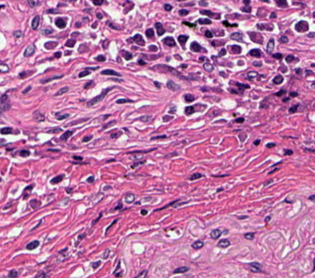nucleus: (87, 86, 113, 105), (151, 65, 186, 79), (127, 34, 144, 45), (200, 10, 220, 19), (66, 118, 88, 126), (248, 31, 262, 43), (41, 75, 62, 83), (295, 21, 308, 32), (101, 69, 120, 76), (166, 80, 179, 90), (234, 82, 248, 91), (33, 110, 44, 121), (106, 219, 117, 230), (60, 130, 72, 140), (92, 212, 102, 224), (155, 22, 164, 35), (55, 86, 68, 95), (50, 174, 63, 183), (31, 15, 39, 29), (257, 23, 273, 30), (163, 37, 175, 46), (120, 50, 132, 59), (26, 240, 38, 249), (102, 120, 115, 128), (55, 18, 65, 28), (178, 35, 188, 45), (203, 61, 213, 71), (210, 229, 221, 238), (76, 233, 85, 244), (266, 39, 273, 53), (55, 112, 69, 119), (230, 32, 242, 40), (248, 49, 260, 57), (217, 239, 229, 247), (191, 240, 203, 248), (44, 41, 57, 48), (285, 55, 298, 62), (190, 42, 200, 51), (273, 75, 283, 84), (30, 199, 40, 208), (197, 18, 211, 24), (222, 20, 236, 26), (107, 21, 119, 28), (132, 160, 144, 167), (125, 193, 134, 202), (65, 39, 75, 47), (230, 45, 240, 53), (184, 94, 194, 102), (116, 98, 132, 103), (182, 21, 195, 27), (189, 173, 202, 179), (78, 70, 89, 77), (247, 71, 258, 78), (46, 127, 61, 132), (145, 28, 153, 37), (279, 35, 288, 43), (289, 104, 298, 112), (185, 106, 194, 114), (275, 89, 285, 96), (111, 131, 121, 138), (244, 232, 254, 239), (276, 0, 287, 6), (27, 1, 40, 6), (84, 81, 93, 88), (178, 9, 188, 15), (272, 53, 282, 59), (82, 135, 92, 141), (151, 135, 166, 139), (72, 155, 82, 161), (205, 30, 212, 38), (218, 48, 225, 56), (114, 202, 122, 209), (241, 6, 250, 12), (163, 115, 172, 121), (268, 168, 277, 174), (54, 51, 61, 58), (153, 81, 160, 88), (149, 45, 157, 51), (96, 55, 104, 61), (264, 179, 272, 185), (43, 29, 52, 34), (92, 0, 103, 4), (230, 89, 241, 93), (164, 4, 171, 10), (239, 133, 245, 140), (199, 1, 207, 6), (253, 61, 261, 66), (235, 117, 243, 122), (284, 149, 292, 154), (46, 9, 58, 12), (212, 41, 221, 45), (280, 66, 286, 72), (266, 143, 275, 147), (87, 176, 93, 182), (174, 54, 181, 59), (138, 59, 145, 64), (243, 0, 249, 5), (96, 13, 102, 18), (169, 107, 174, 113), (309, 194, 314, 200), (141, 209, 147, 214), (265, 216, 270, 222), (290, 92, 297, 96), (270, 12, 275, 17), (308, 32, 313, 37), (254, 140, 259, 145), (66, 188, 71, 193), (104, 186, 110, 190), (48, 149, 59, 151), (75, 22, 80, 26), (92, 22, 96, 27), (199, 57, 204, 61), (238, 60, 243, 64), (295, 69, 300, 73), (238, 216, 246, 218), (65, 51, 70, 54), (283, 98, 288, 101), (217, 188, 222, 191)
